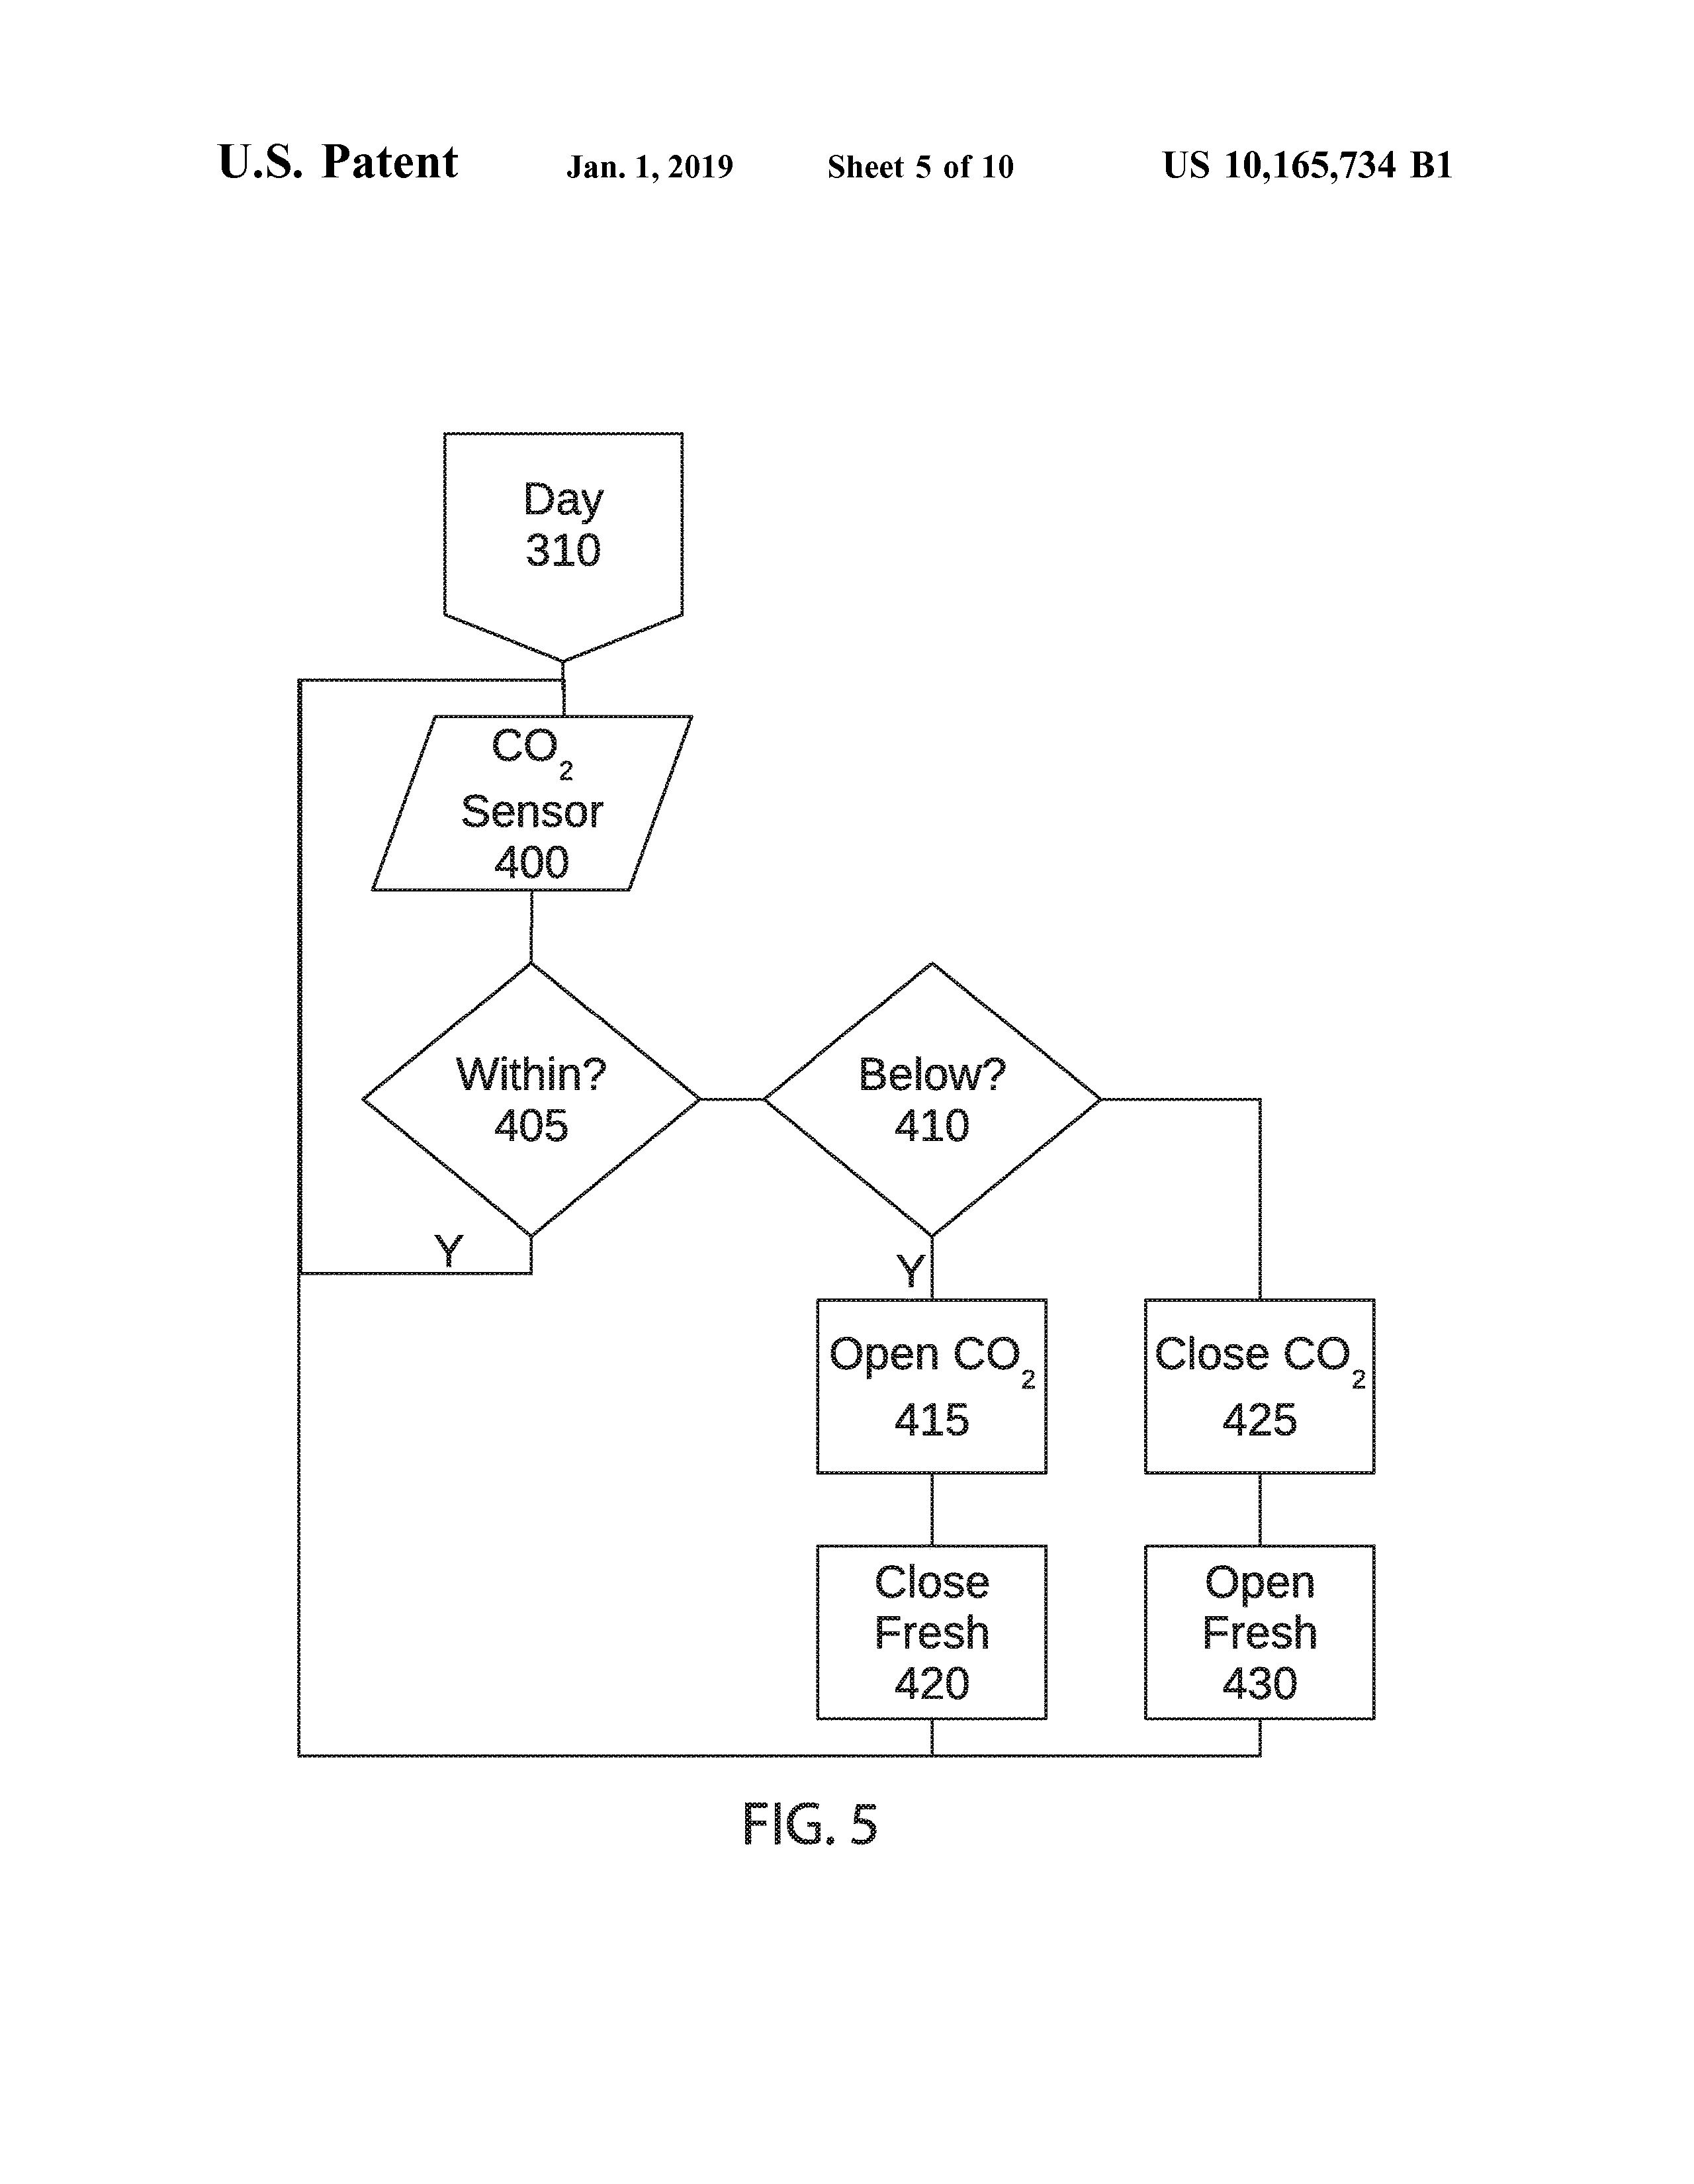patent image: (249, 377, 1429, 1902)
